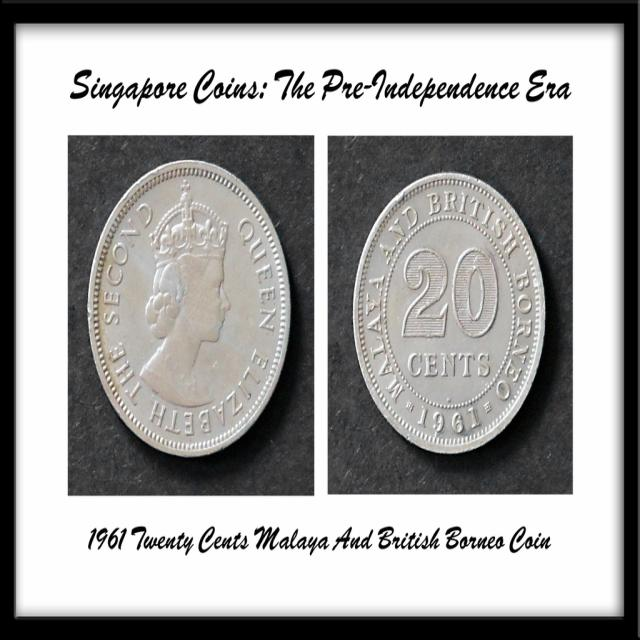Coin: (83, 156, 296, 463), (355, 169, 546, 457)
